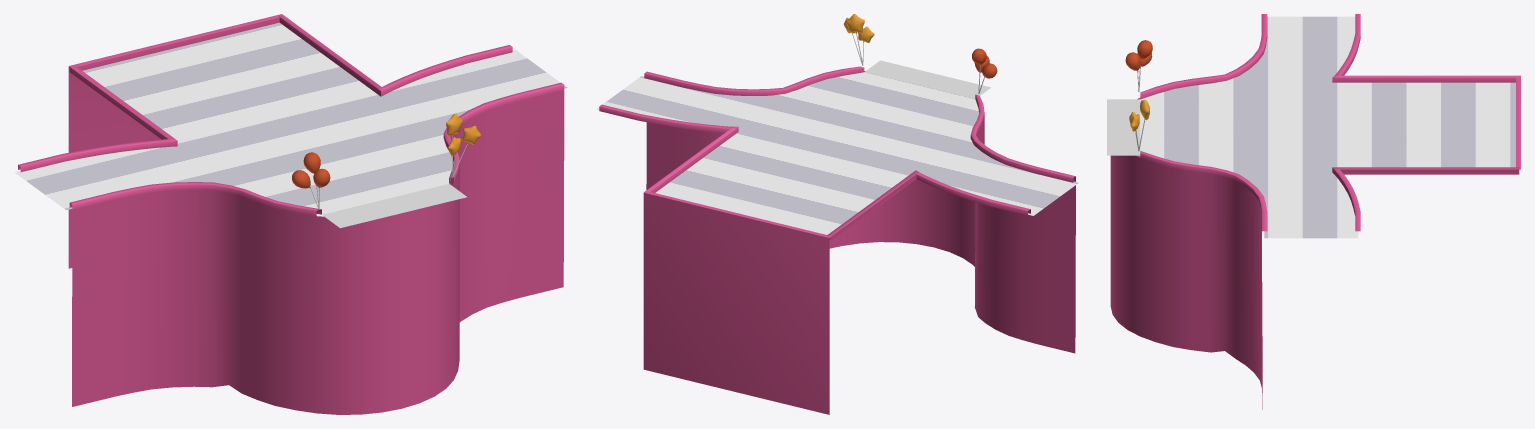
The model's file is END_Platform_NEW.fbx.
The picture shows the model from 3 angles, left to right: view 1: azimuth 30°, elevation 25°; view 2: azimuth 150°, elevation 25°; view 3: azimuth 270°, elevation 25°; orthographic projection. The views are drawn at different scales.
Visible parts, largest first — view 1: End_Platform_Edges, End_Platform_top, End_Platform_back, Checker; view 2: End_Platform_top, End_Platform_back, End_Platform_Edges, Checker; view 3: End_Platform_top, End_Platform_Edges, Checker, End_Platform_back.
Part boxes in pixels (<box>): End_Platform_Edges: <box>18,14,564,414</box>; End_Platform_top: <box>14,22,567,214</box>; End_Platform_back: <box>68,14,282,268</box>; Checker: <box>322,184,467,228</box>; End_Platform_top: <box>596,72,1078,234</box>; End_Platform_back: <box>643,192,830,414</box>; End_Platform_Edges: <box>599,66,1075,353</box>; Checker: <box>864,60,990,98</box>; End_Platform_top: <box>1140,16,1515,238</box>; End_Platform_Edges: <box>1110,14,1519,409</box>; Checker: <box>1107,99,1140,155</box>; End_Platform_back: <box>1516,75,1520,169</box>.
Size of what is drawn, in the model's own units: 3149 by 1582 by 2487.
